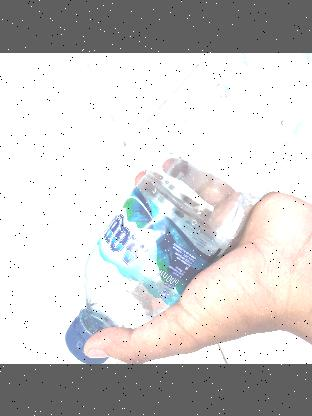Plastic Bottle: (47, 52, 312, 364)
